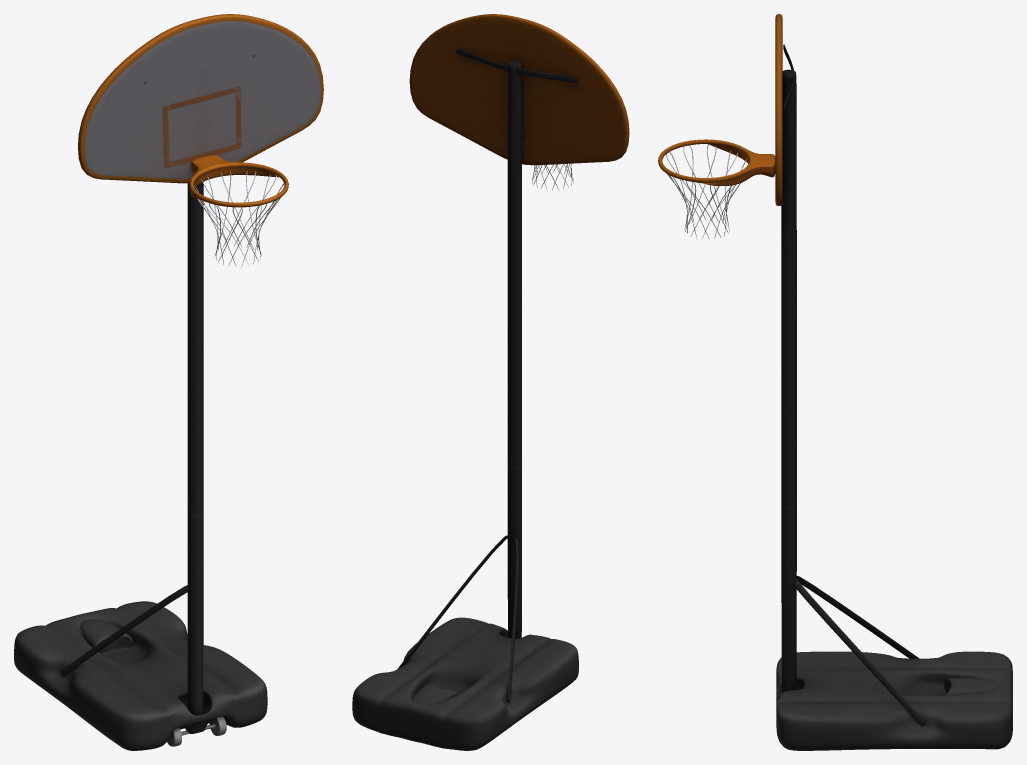
The model's file is entertainment2.glb.
3 views of the same model, side by side, from view 1: azimuth 30°, elevation 25°; view 2: azimuth 150°, elevation 25°; view 3: azimuth 270°, elevation 25° (orthographic). The views are drawn at different scales.
Parts seen in each view (by area): view 1: 10488_basketball_goal_L3; view 2: 10488_basketball_goal_L3; view 3: 10488_basketball_goal_L3.
Boxes of the visible parts, box(x1,y1,x2,y2) form: 10488_basketball_goal_L3: box(14, 14, 323, 750); 10488_basketball_goal_L3: box(352, 14, 629, 750); 10488_basketball_goal_L3: box(658, 14, 1012, 750).
Bounding box in the file's own units: 128 × 364 × 168.
1 material, 1 textured.
